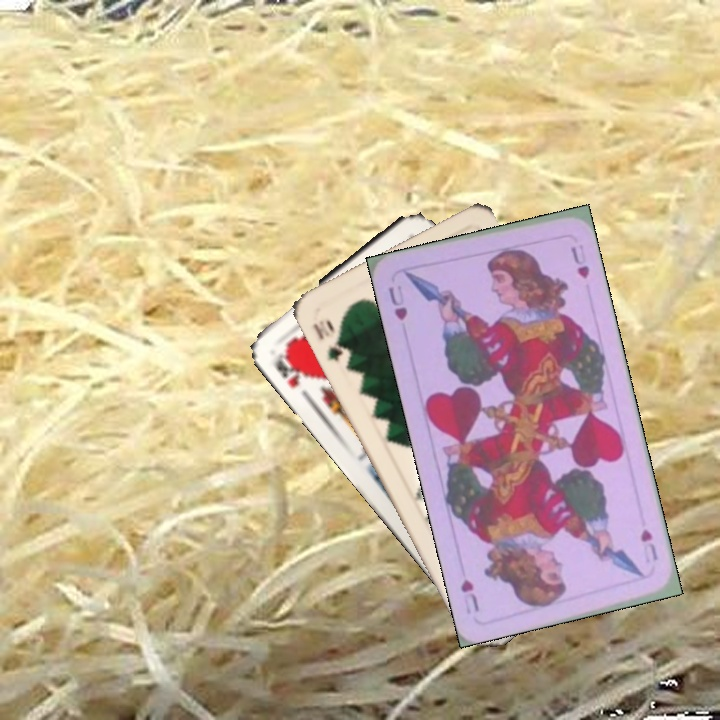G10: (308, 315, 347, 364)
HK: (271, 346, 309, 391)
HU: (384, 281, 410, 323), (636, 525, 660, 563)
